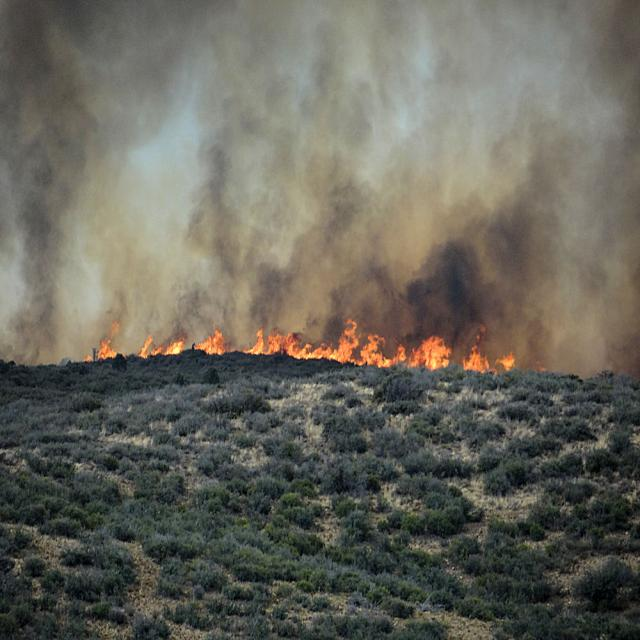Fire: (84, 319, 520, 387)
Smoke: (0, 0, 640, 359)
